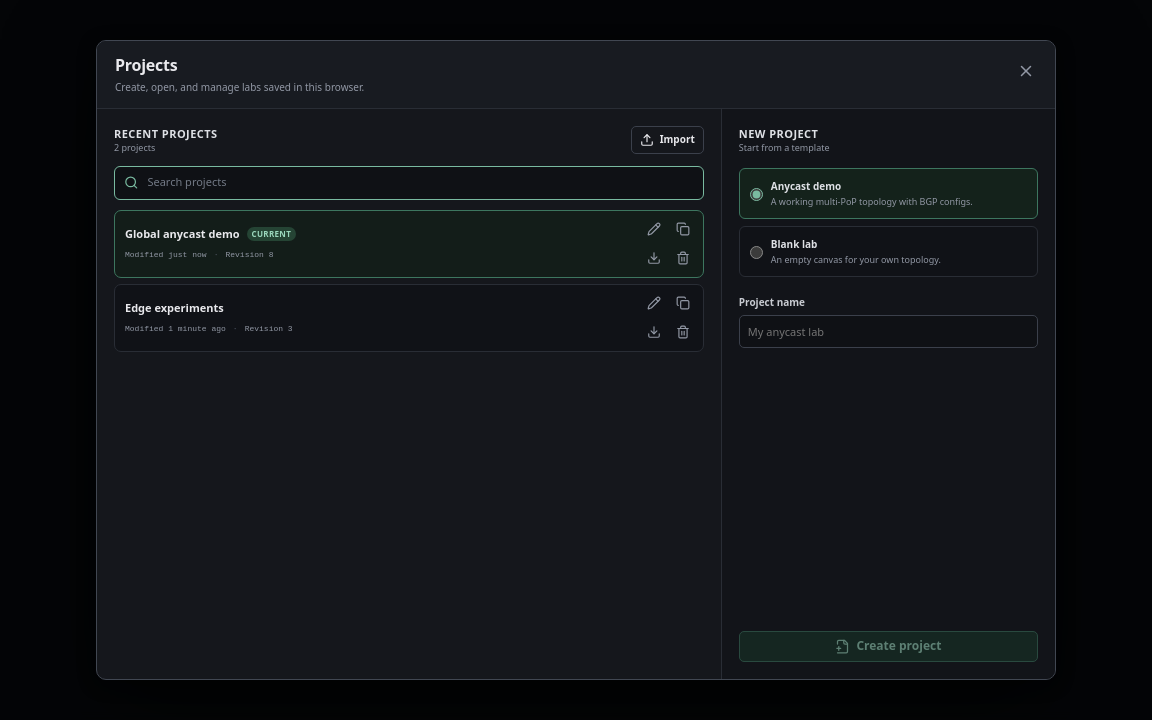
Test: ProjectManager › shows searchable projects in recent order with current, revision, and modified metadata
This screenshot has width=1152, height=720.
Expected: the text "Global anycast demo" is shown, [125,226,240,243]
Expected: the text "Current" is shown, [247,228,296,242]
Type "edge" into the search field. click: (420, 183)
box: [145,173,694,192]
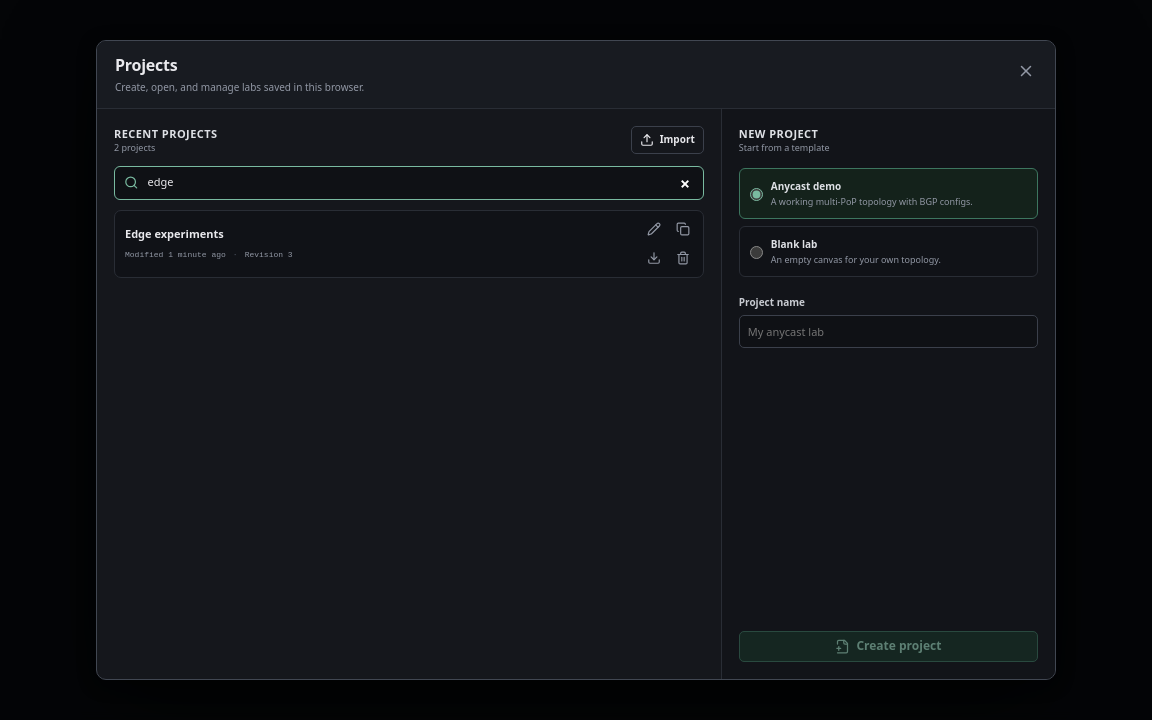
Expected: the text "Edge experiments" is shown, [125,226,224,243]
Expected: the button "Global anycast demo" is gone
Replace the text in the search field with "missing". click: (420, 183)
box: [145,173,694,192]
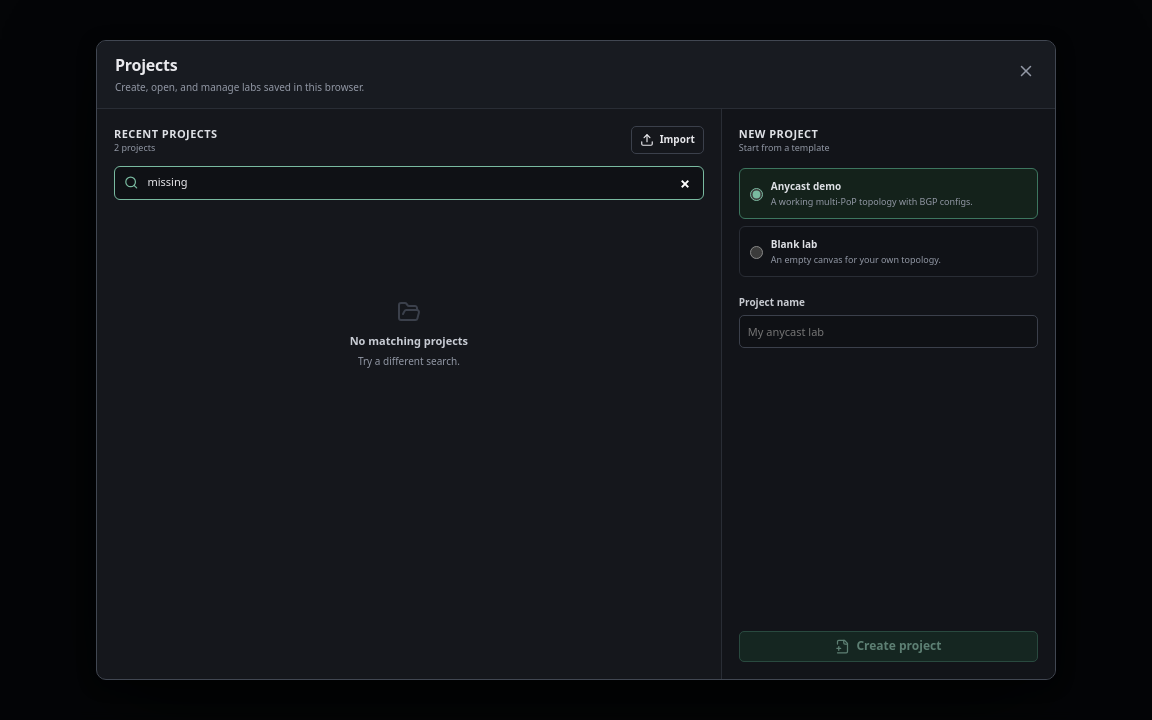
Expected: the text "No matching projects" is shown, [350,333,468,349]
